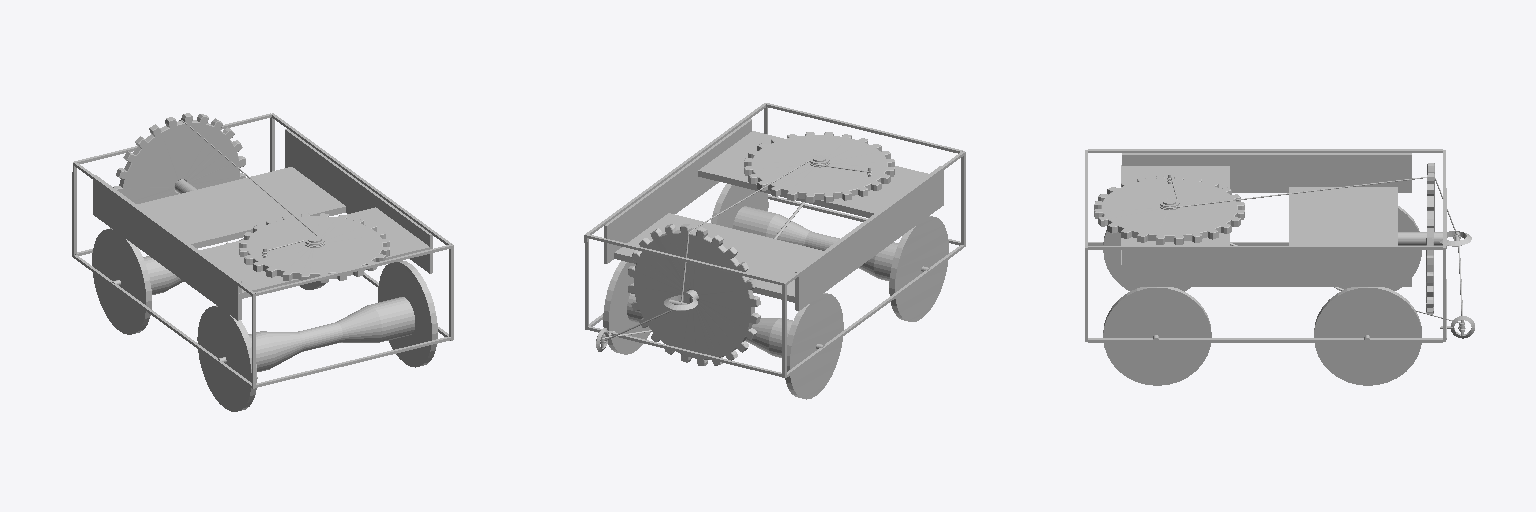
File: DaV_auto.obj
The picture shows the model from 3 angles: view 1: azimuth 30°, elevation 25°; view 2: azimuth 150°, elevation 25°; view 3: azimuth 270°, elevation 25°; orthographic projection.
Visible parts, largest first — view 1: DaV_auto_Leomobile; view 2: DaV_auto_Leomobile; view 3: DaV_auto_Leomobile.
Boxes of the visible parts, x1,y1,x2,y2 form: DaV_auto_Leomobile: [72, 113, 453, 411]; DaV_auto_Leomobile: [584, 103, 965, 399]; DaV_auto_Leomobile: [1085, 149, 1474, 385].
Bounding box in the file's own units: 1.61 × 1.3 × 2.71.